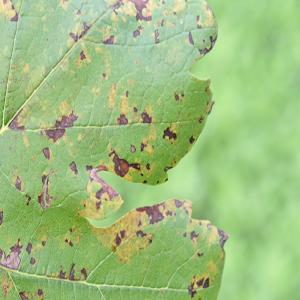Folha: (0, 0, 229, 299)
Fungo: (89, 164, 119, 201), (38, 168, 56, 209), (0, 237, 23, 269), (108, 147, 129, 177), (187, 273, 209, 299), (0, 0, 18, 22), (162, 125, 177, 144), (106, 82, 116, 110), (217, 228, 229, 251), (140, 110, 152, 123), (116, 112, 128, 125), (69, 160, 78, 174), (102, 34, 114, 44), (42, 146, 50, 160), (14, 176, 22, 190), (69, 31, 78, 42), (26, 241, 32, 255), (188, 30, 194, 44), (80, 50, 86, 60), (25, 194, 31, 204), (0, 209, 3, 227), (174, 92, 179, 102), (130, 144, 136, 152), (30, 256, 35, 264)
